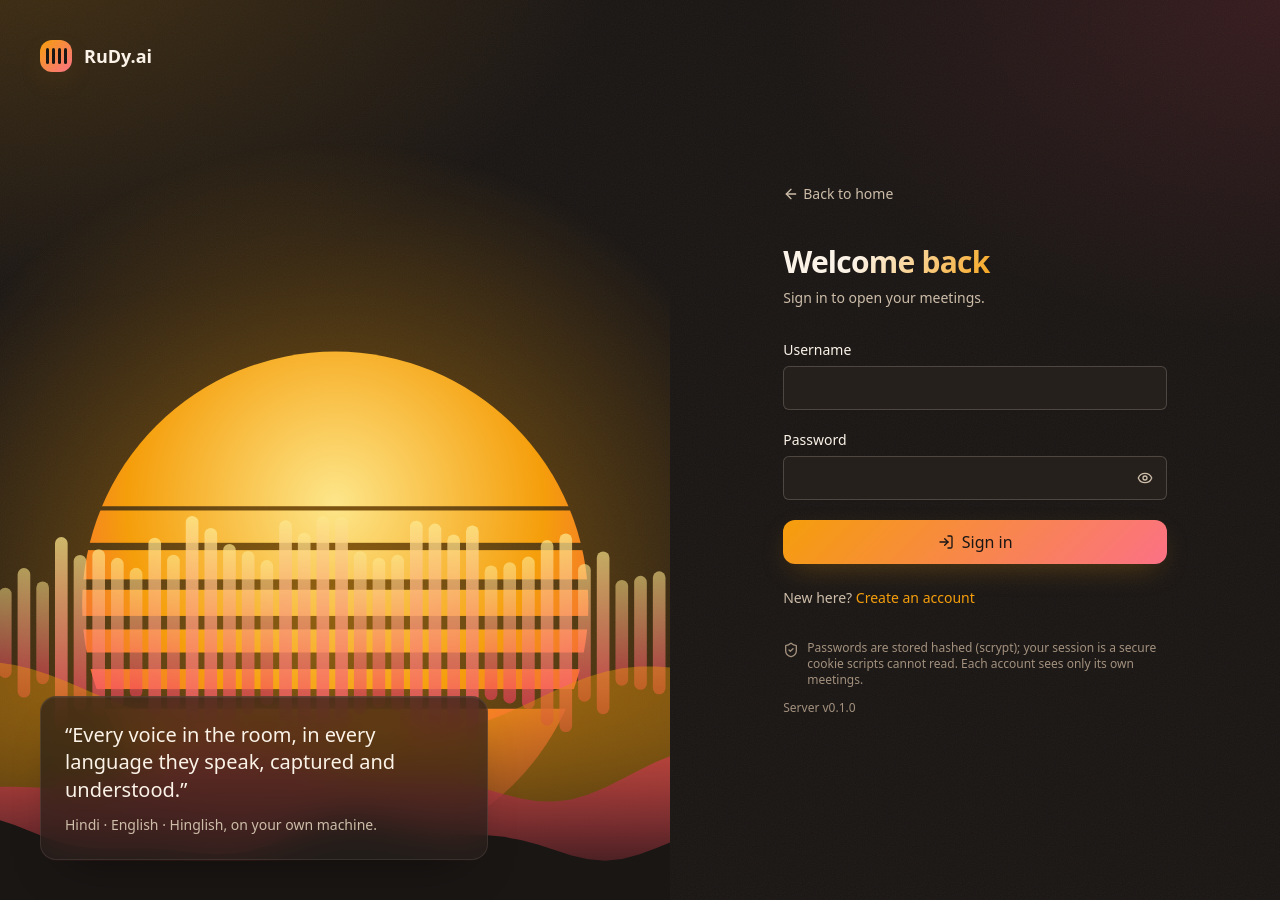
Test: creating another account › links from sign-in to sign-up and signs the new account in
The image size is (1280, 900).
Step 1. Click the link "Create an account" → coordinates (915, 598), box [856,588,975,607]
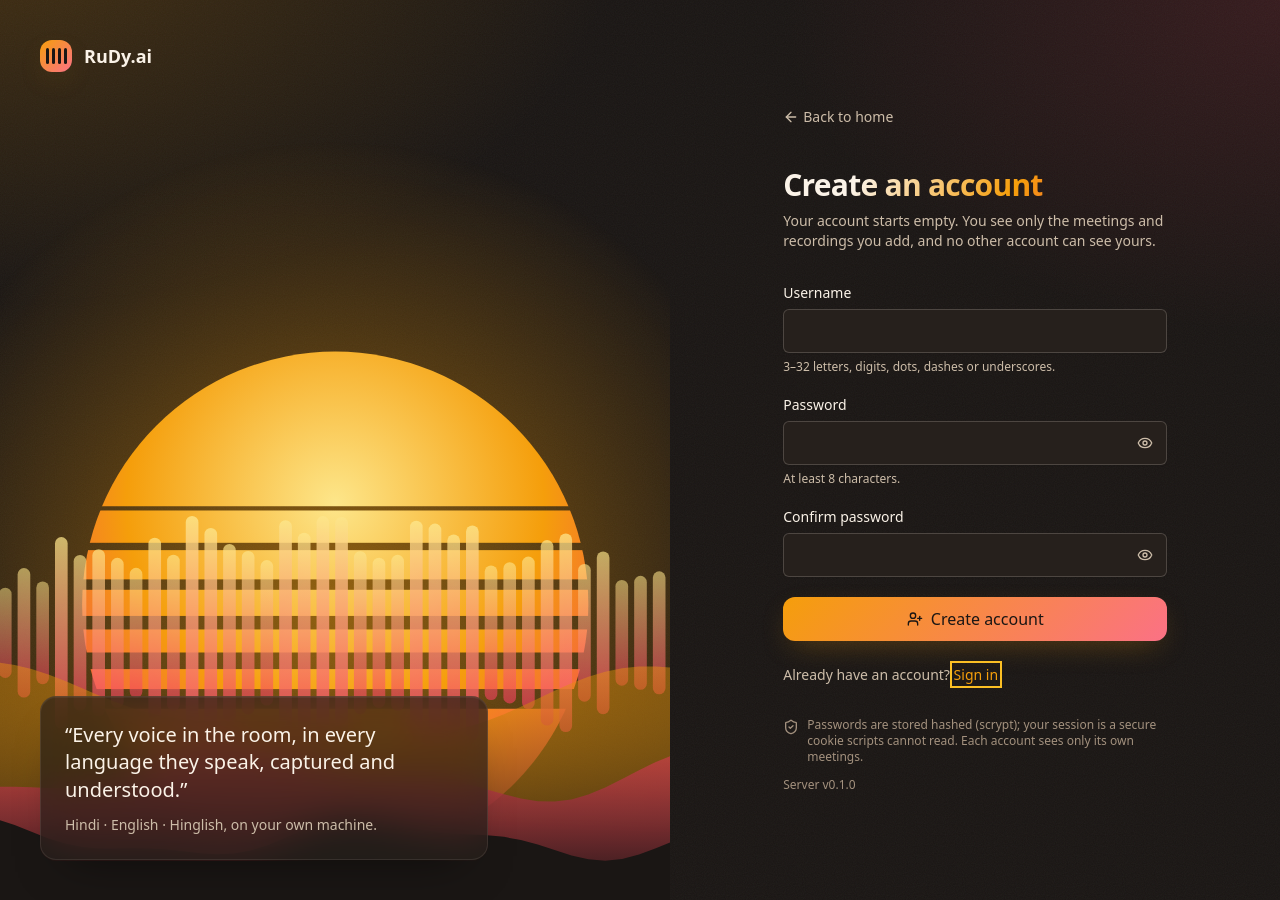
Now the heading "Create an account" is shown, box [783,167,1167,203]
Now the text "no other account can see yours" is shown, box [783,211,1163,250]
Step 2. Type "priya" into the field labelled "Username" → coordinates (975, 331), box [783,309,1167,353]
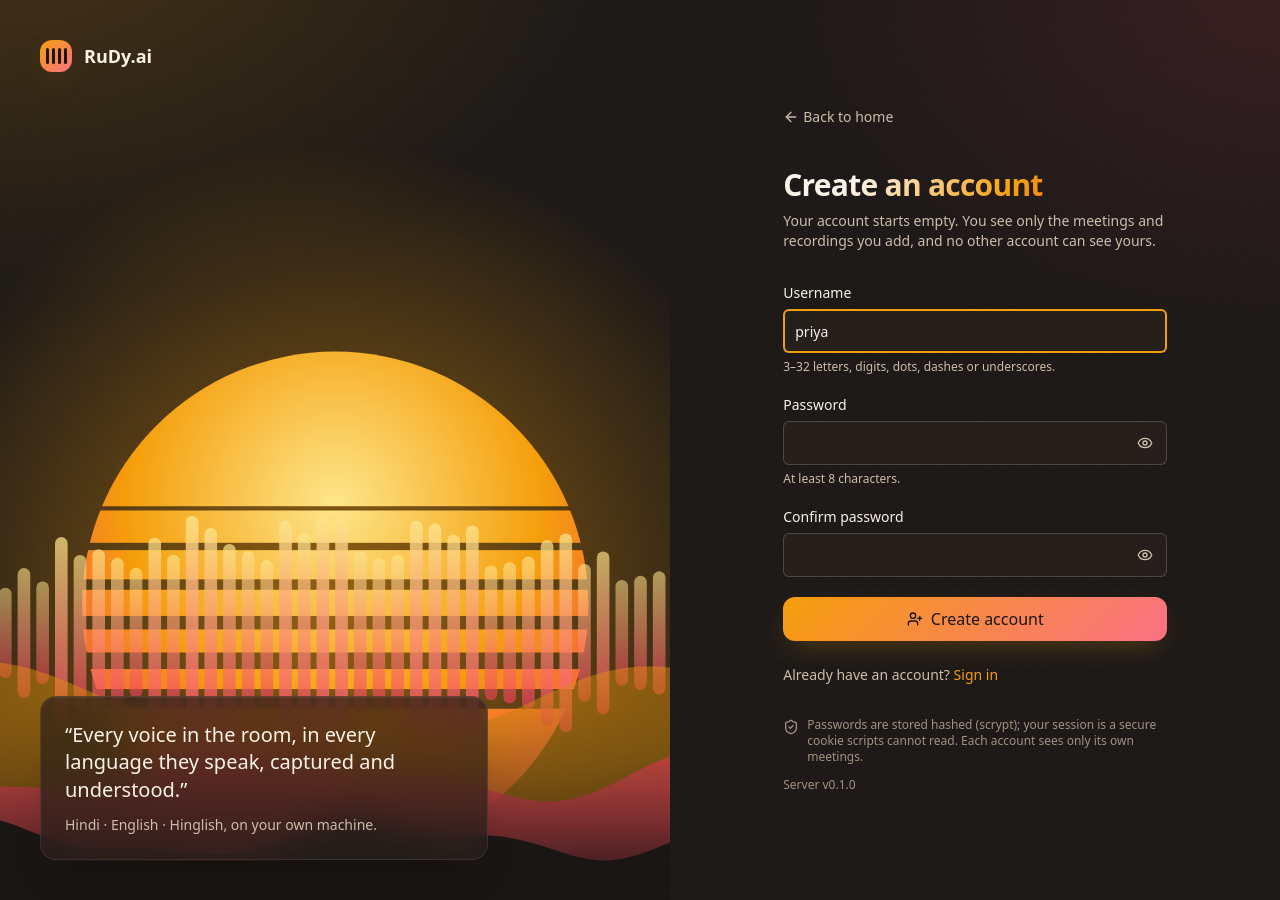
Step 3. Type "a-good-password" into the password field labelled "Password" → coordinates (975, 443), box [783,421,1167,465]
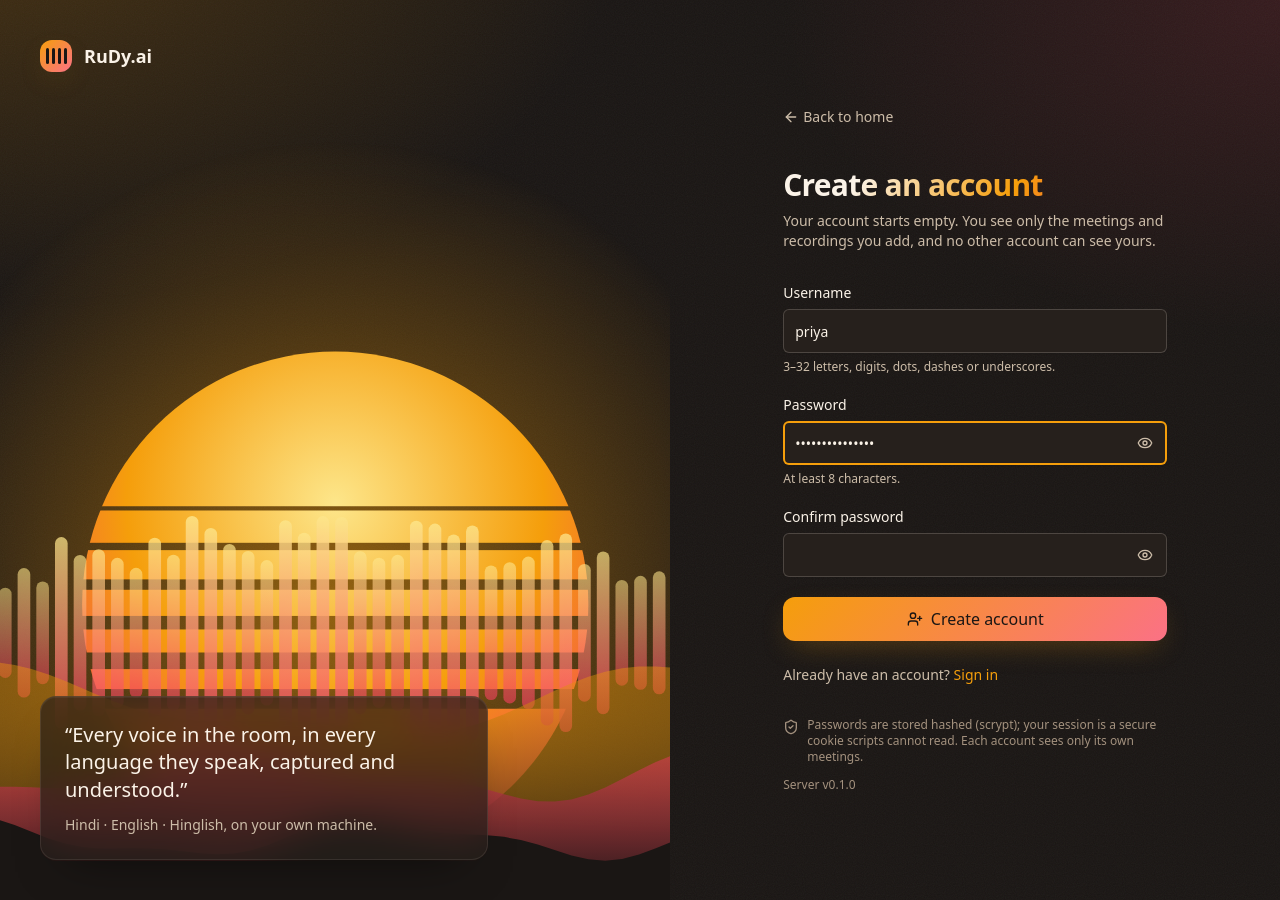
Step 4. Type "a-good-password" into the password field labelled "Confirm password" → coordinates (975, 555), box [783,533,1167,577]
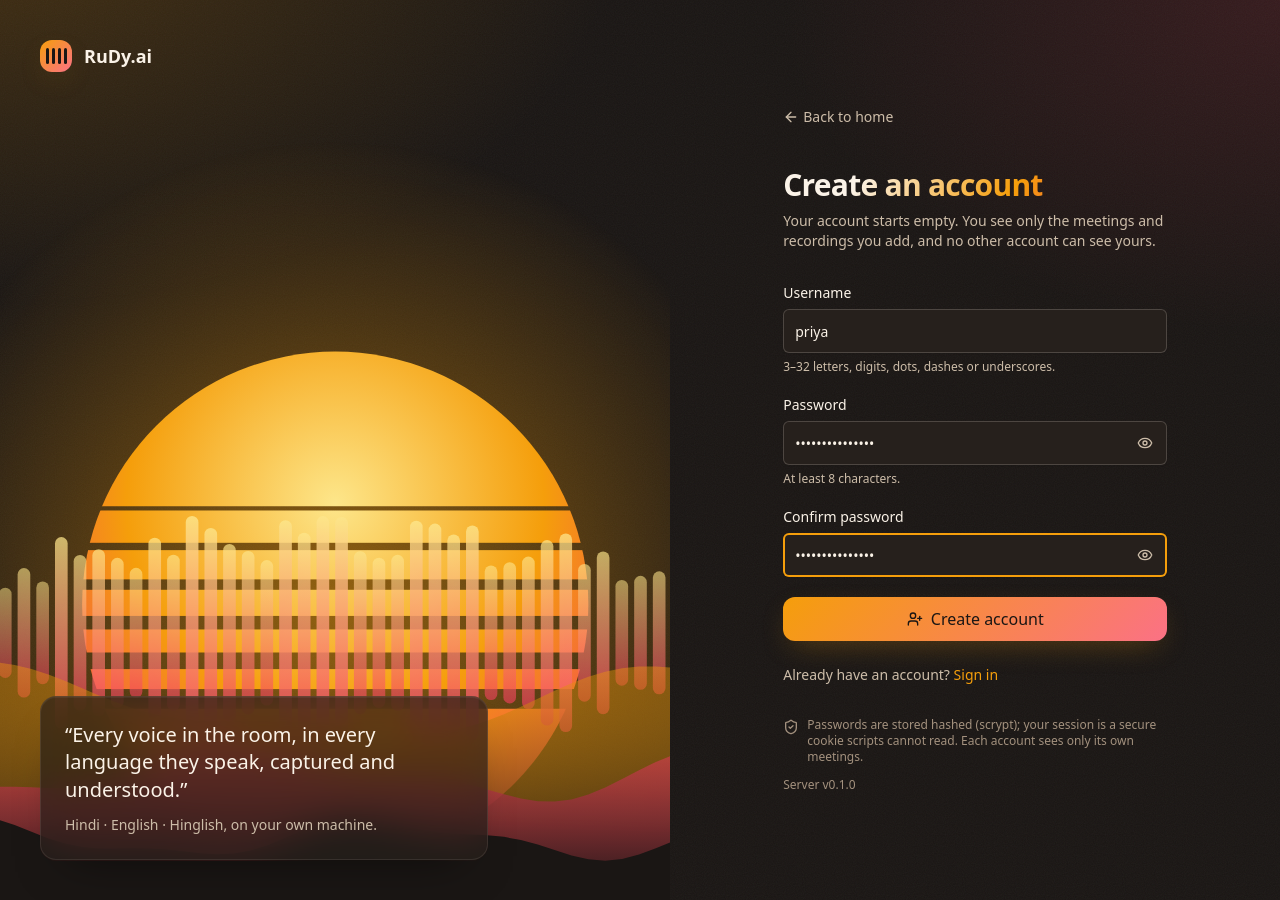
Step 5. Click the button "Create account" → coordinates (975, 619), box [783,597,1167,641]
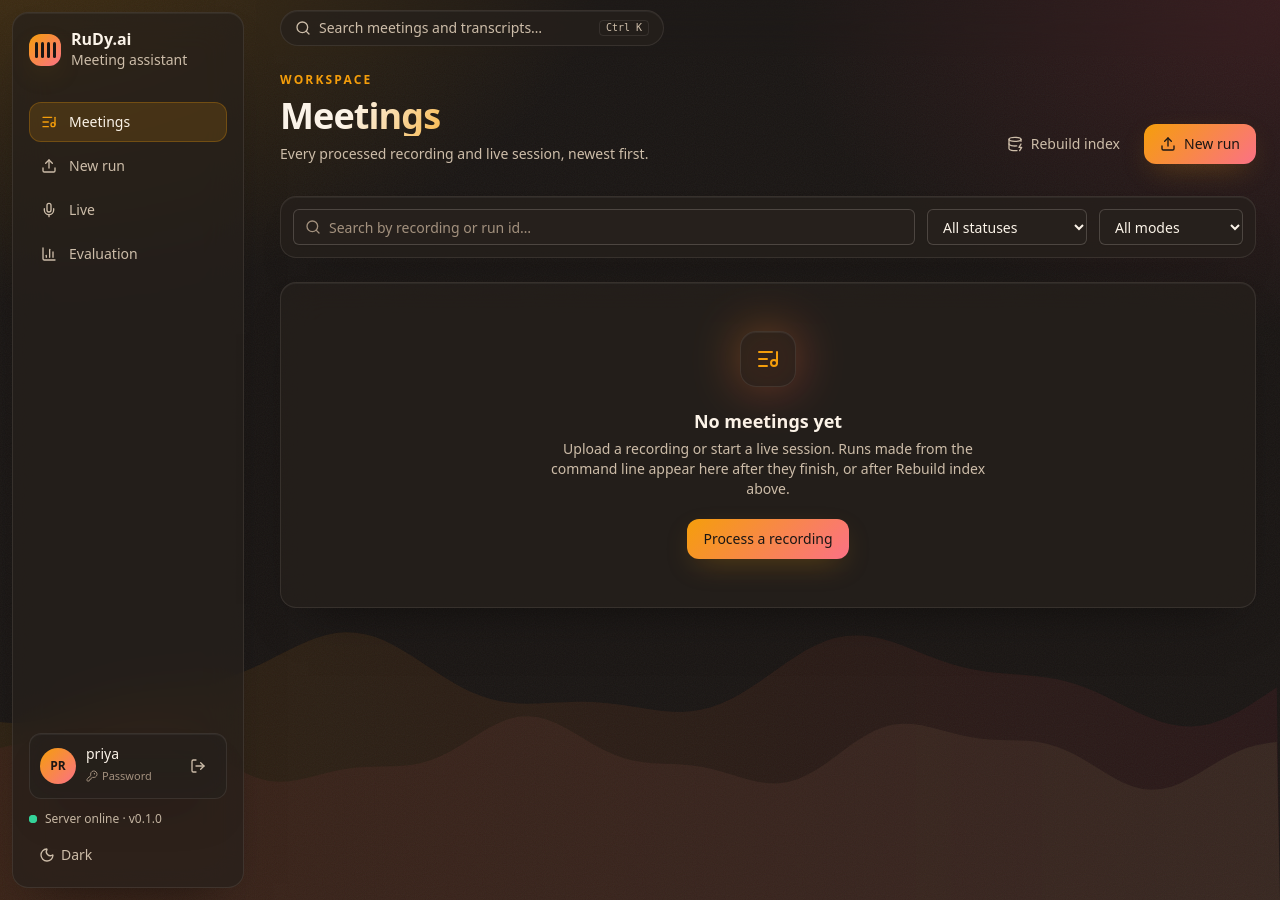
Now the heading "Meetings" is shown, box [280,96,648,136]
